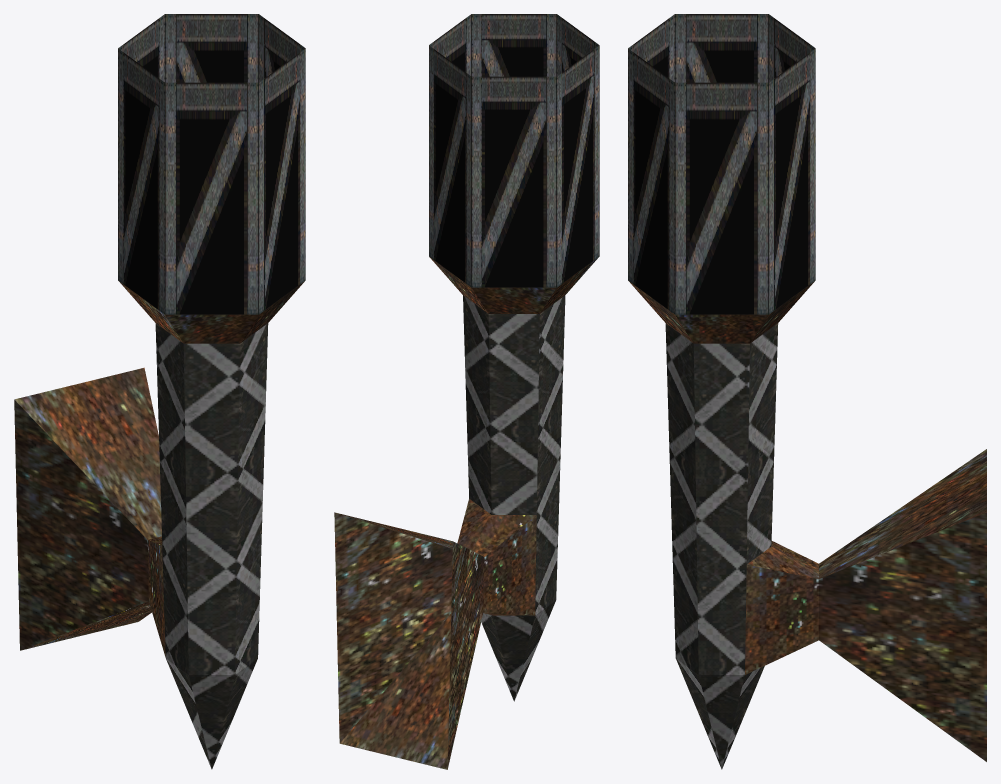
Rendered from Torch.glb.
3 renders of one model, left to right at view 1: azimuth 30°, elevation 25°; view 2: azimuth 150°, elevation 25°; view 3: azimuth 270°, elevation 25°, orthographic. The views are drawn at different scales.
Parts seen in each view (by area): view 1: Torch; view 2: Torch; view 3: Torch.
Boxes of the visible parts, <box> form: Torch: <box>14,14,305,769</box>; Torch: <box>334,14,599,769</box>; Torch: <box>628,14,986,769</box>.
Size of the model in its own units: 0.1306 by 0.6398 by 0.2884.
Materials: 3 (3 with a texture image).
